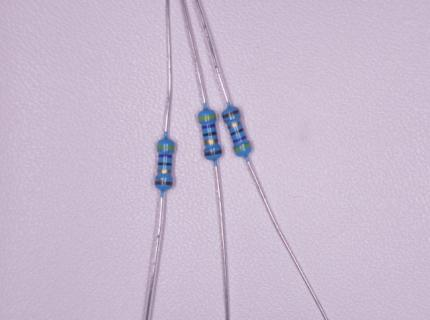Black band: (231, 128, 244, 136), (204, 132, 216, 137), (158, 162, 172, 165)
Brown band: (223, 110, 239, 118), (155, 181, 173, 186), (204, 151, 222, 156)
Violet band: (233, 135, 247, 143), (228, 121, 242, 129), (201, 123, 216, 129), (204, 139, 218, 145), (157, 169, 171, 174), (158, 154, 173, 158)
Yellow band: (233, 143, 252, 152), (198, 115, 216, 122), (157, 145, 174, 149)
